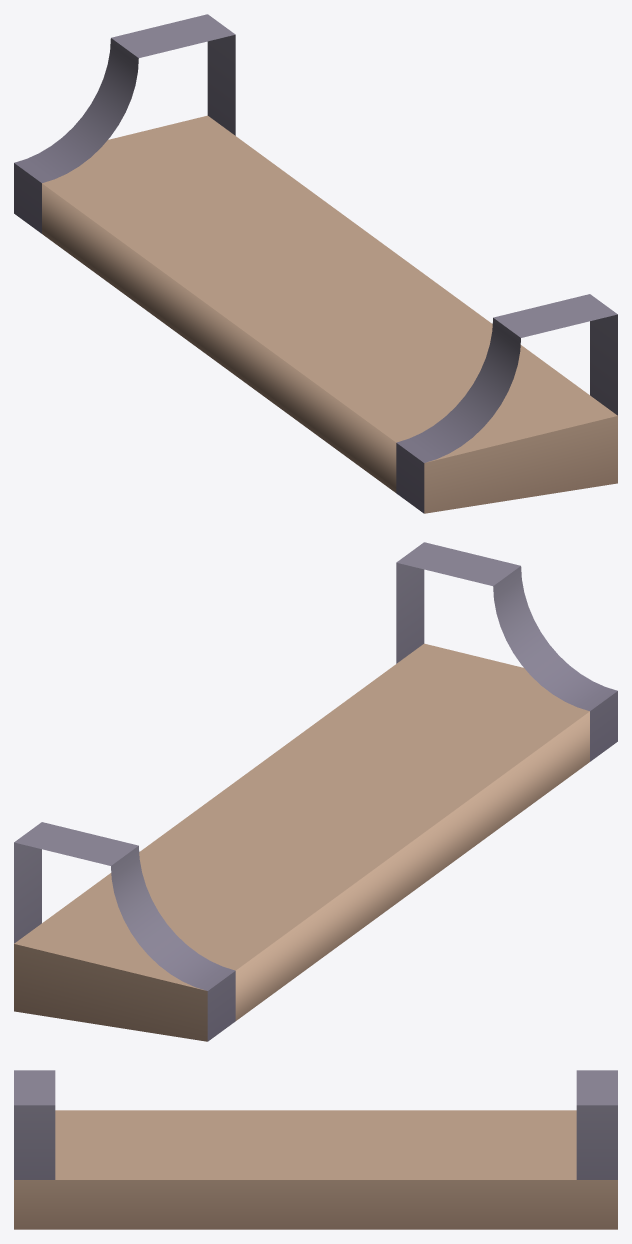
Rendered from shelf-hanging-decorative-long (%wall)_0.glb.
The picture shows the model from 3 angles, top to bottom: view 1: azimuth 30°, elevation 25°; view 2: azimuth 150°, elevation 25°; view 3: azimuth 270°, elevation 25°; orthographic projection. The views are drawn at different scales.
Visible parts, largest first — view 1: shelf-hanging-decorative-long (%wall); view 2: shelf-hanging-decorative-long (%wall); view 3: shelf-hanging-decorative-long (%wall).
Boxes of the visible parts, bbox=[...] form: shelf-hanging-decorative-long (%wall): bbox=[14, 14, 617, 513]; shelf-hanging-decorative-long (%wall): bbox=[14, 542, 617, 1041]; shelf-hanging-decorative-long (%wall): bbox=[14, 1070, 617, 1229].
Bounding box in the file's own units: 0.3 × 0.25 × 1.1.
